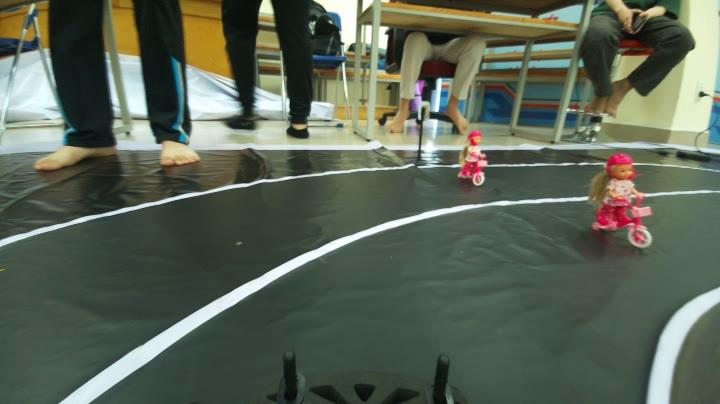pedestrian: (584, 148, 660, 250), (450, 127, 498, 188)
